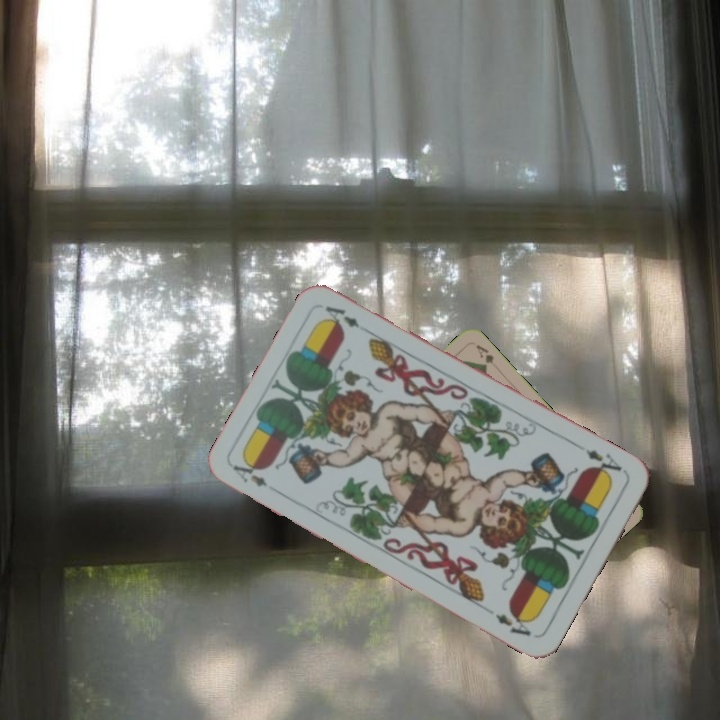EA: (228, 456, 283, 497), (574, 442, 625, 482)
